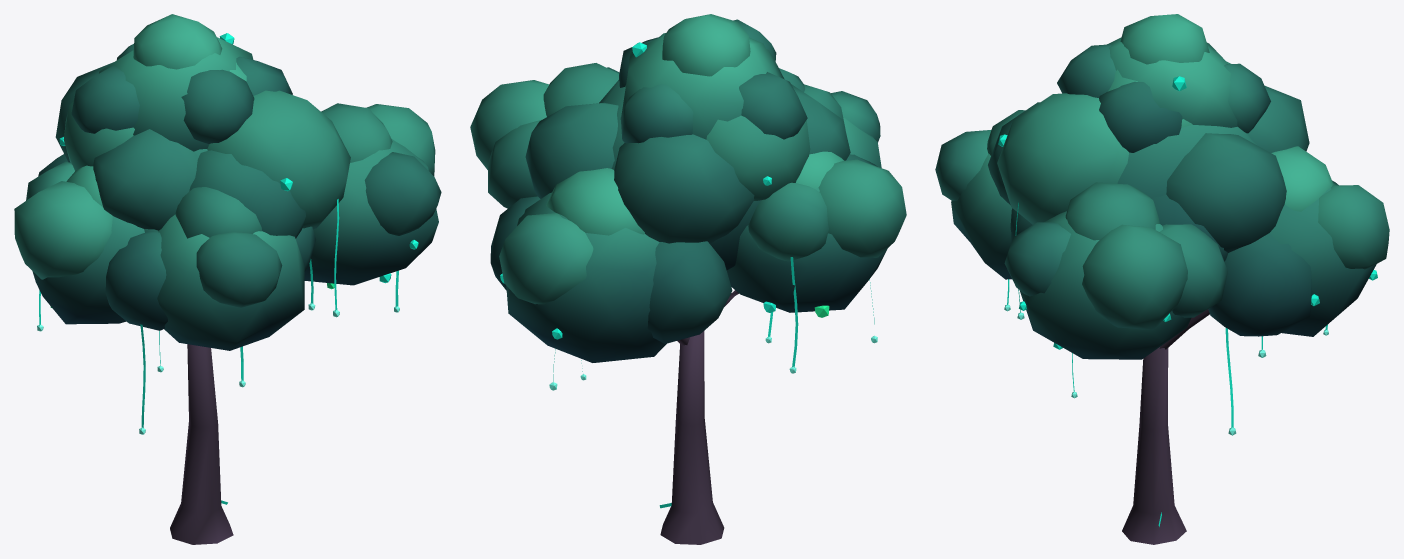
The model's file is SM_PandoraTree_Oak_A.fbx.
3 renders of one model, left to right at view 1: azimuth 30°, elevation 25°; view 2: azimuth 150°, elevation 25°; view 3: azimuth 270°, elevation 25°, orthographic. The views are drawn at different scales.
Parts seen in each view (by area): view 1: SM_PandoraTree_Oak_A; view 2: SM_PandoraTree_Oak_A; view 3: SM_PandoraTree_Oak_A.
Part boxes in pixels (<box>): SM_PandoraTree_Oak_A: <box>14,14,441,544</box>; SM_PandoraTree_Oak_A: <box>470,14,906,544</box>; SM_PandoraTree_Oak_A: <box>935,14,1389,544</box>.
Size of what is drawn, in the model's own units: 9.02 by 10.81 by 8.78.
